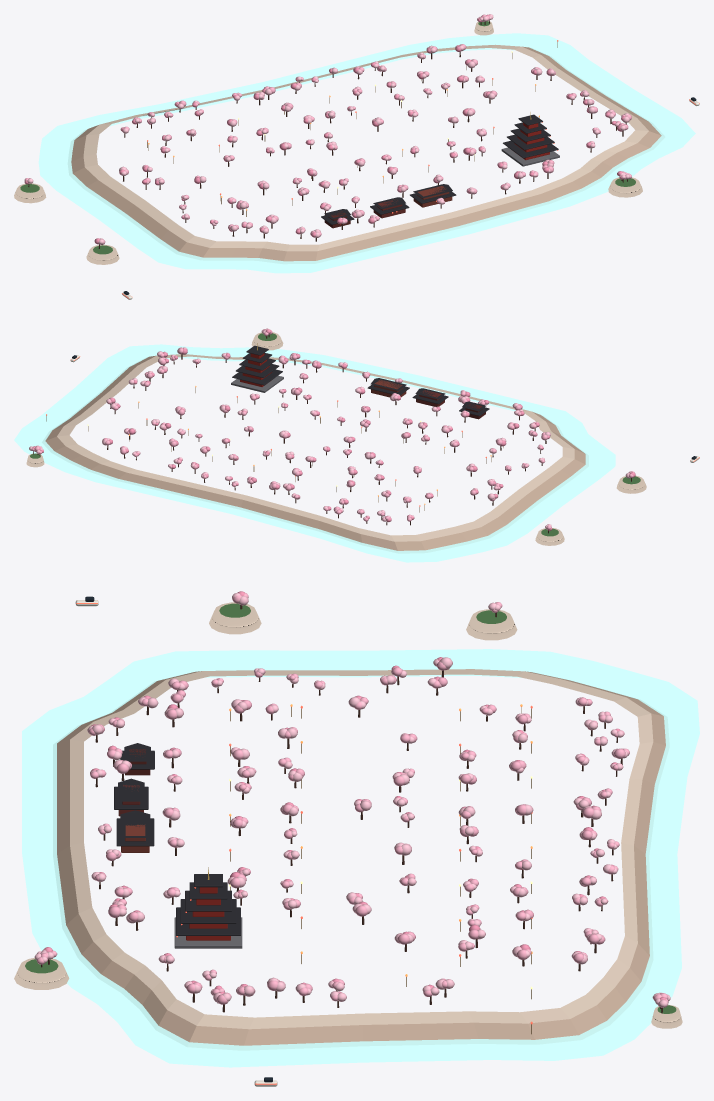
Rendered from by_sakura.glb.
3 renders of one model, top to bottom at view 1: azimuth 30°, elevation 25°; view 2: azimuth 150°, elevation 25°; view 3: azimuth 270°, elevation 25°, orthographic. The views are drawn at different scales.
Parts seen in each view (by area): view 1: Lavt vand_net, Stranden_net, Palmer_net, Holme_net, Pagoden_net, Byen_net; view 2: Lavt vand_net, Stranden_net, Palmer_net, Pagoden_net, Holme_net, Byen_net; view 3: Lavt vand_net, Stranden_net, Palmer_net, Holme_net, Pagoden_net, Byen_net, Holmtraer_net.
Boxes of the visible parts, x1,y1,x2,y2 form: Lavt vand_net: (38, 33, 695, 273); Stranden_net: (69, 44, 662, 263); Palmer_net: (119, 44, 631, 241); Holme_net: (14, 21, 642, 264); Pagoden_net: (501, 112, 559, 166); Byen_net: (321, 184, 456, 228); Lavt vand_net: (14, 344, 615, 562); Stranden_net: (45, 354, 588, 552); Palmer_net: (102, 347, 550, 525); Pagoden_net: (231, 343, 283, 392); Holme_net: (26, 332, 646, 545); Byen_net: (367, 378, 489, 419); Lavt vand_net: (22, 649, 699, 1067); Stranden_net: (53, 669, 668, 1048); Palmer_net: (87, 657, 629, 1012); Holme_net: (14, 602, 682, 1028); Pagoden_net: (174, 867, 242, 948); Byen_net: (114, 743, 154, 852); Holmtraer_net: (34, 591, 670, 1013).
Bounding box in the file's own units: 89.62 × 7.05 × 53.71.
